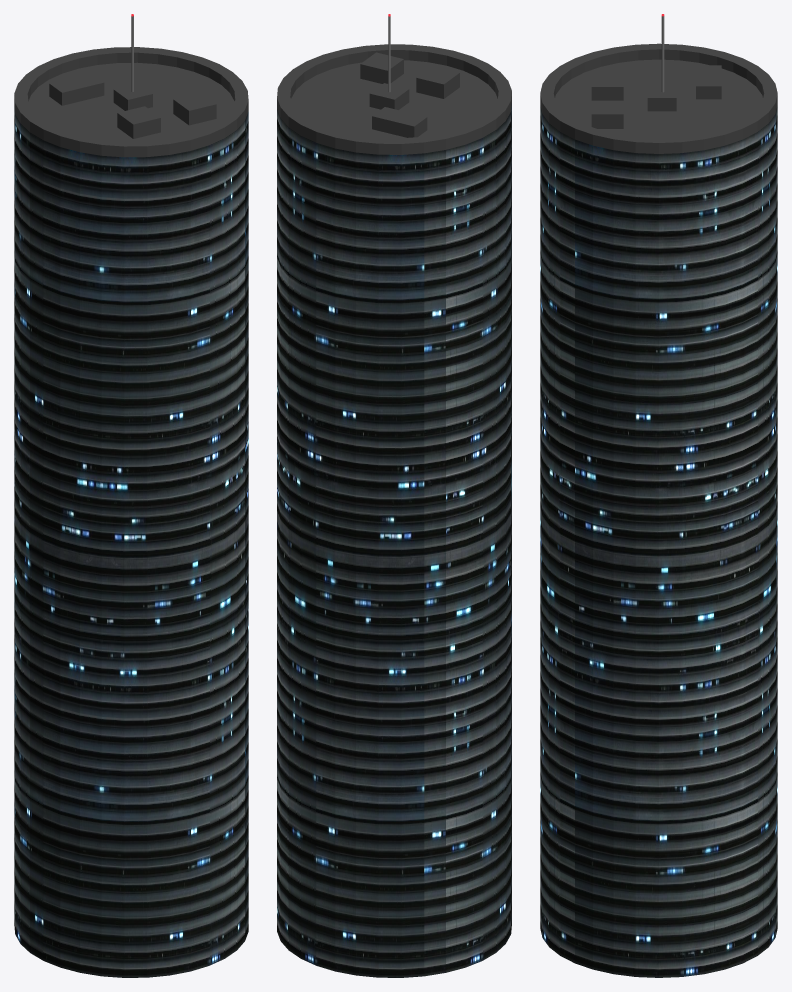
File: s_03_06-new-building.glb
The picture shows the model from 3 angles, left to right: view 1: azimuth 30°, elevation 25°; view 2: azimuth 150°, elevation 25°; view 3: azimuth 270°, elevation 25°; orthographic projection.
Parts seen in each view (by area): view 1: s_03_06-new-building-2.002; view 2: s_03_06-new-building-2.002; view 3: s_03_06-new-building-2.002.
Part boxes in pixels (x1,y1,x2,y2): s_03_06-new-building-2.002: (14,14,248,977); s_03_06-new-building-2.002: (277,14,511,977); s_03_06-new-building-2.002: (540,14,777,977).
Bounding box in the file's own units: 47.46 × 204 × 47.96.
Materials: 4 (1 with a texture image).
